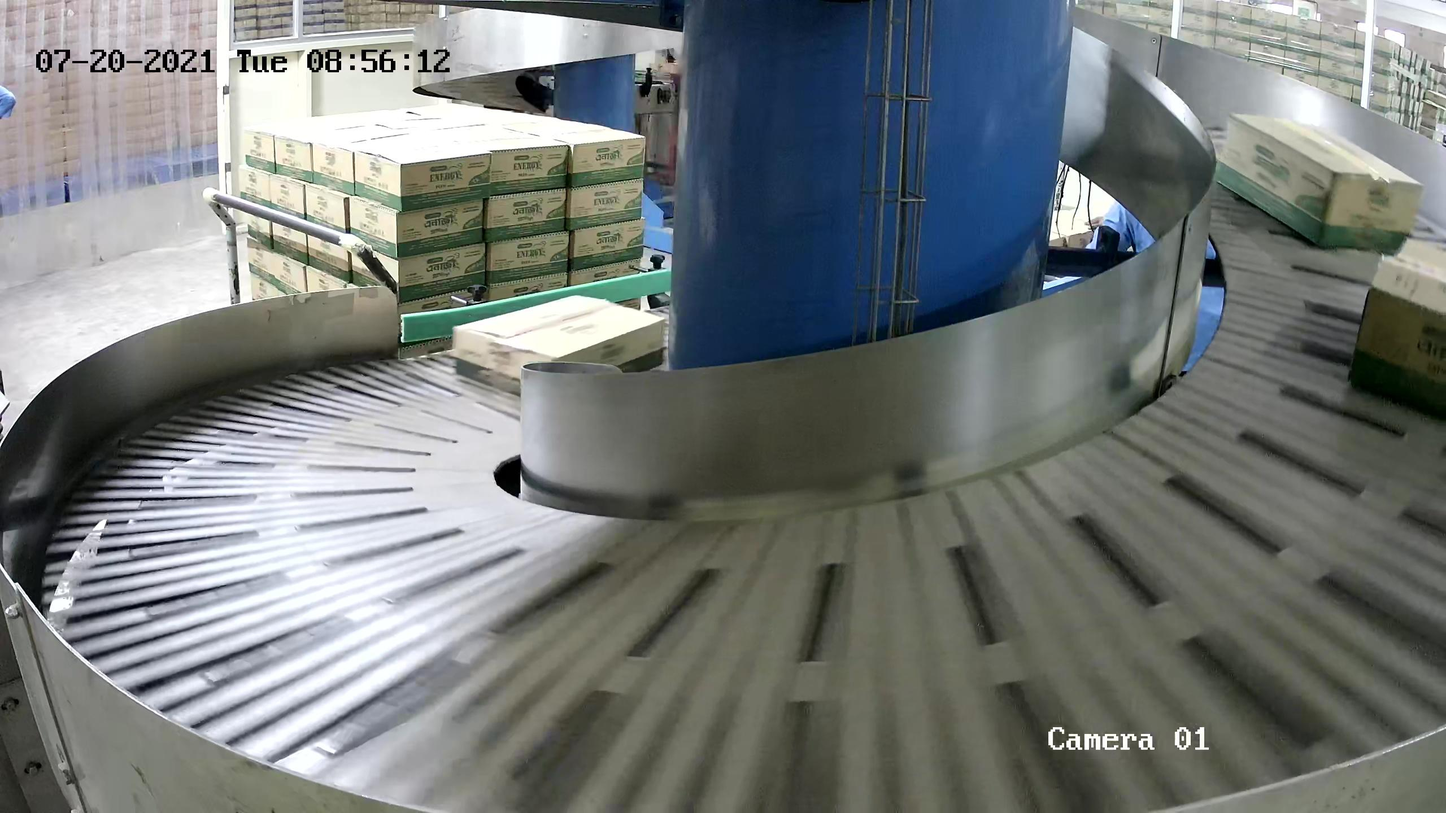Box: (1213, 113, 1422, 254), (452, 295, 667, 404), (1344, 235, 1446, 426)
